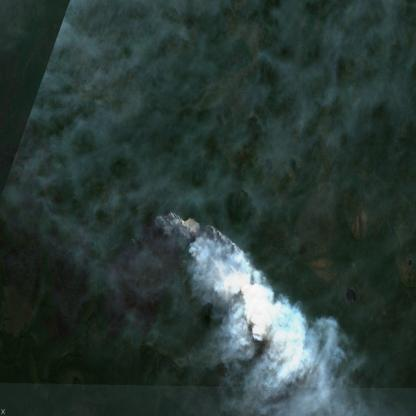fire: (149, 209, 259, 289)
